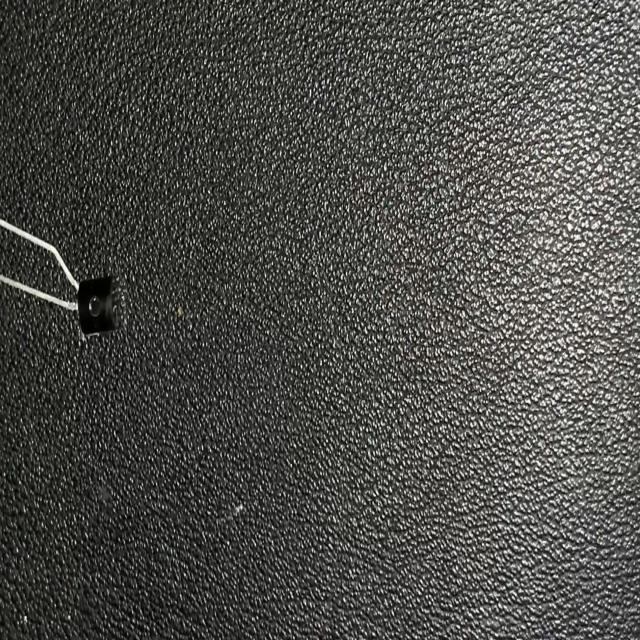missing-leg: (0, 215, 121, 340)
